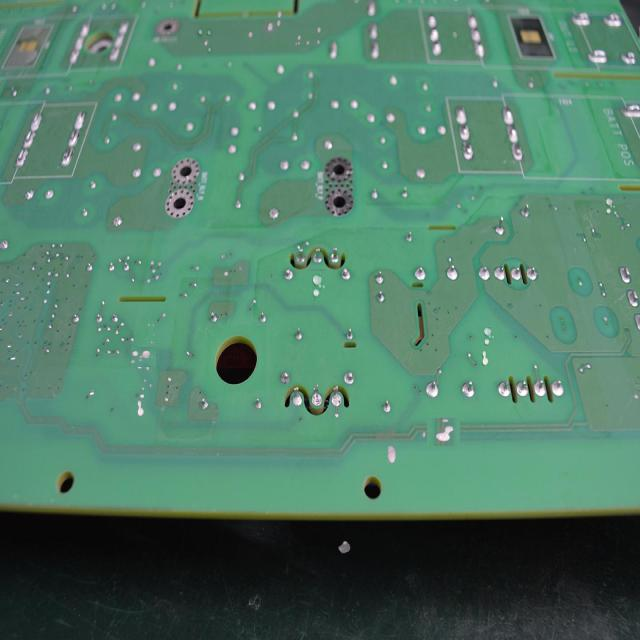spillover: (427, 417, 459, 448), (130, 379, 154, 415), (308, 270, 326, 306), (131, 346, 155, 369)
